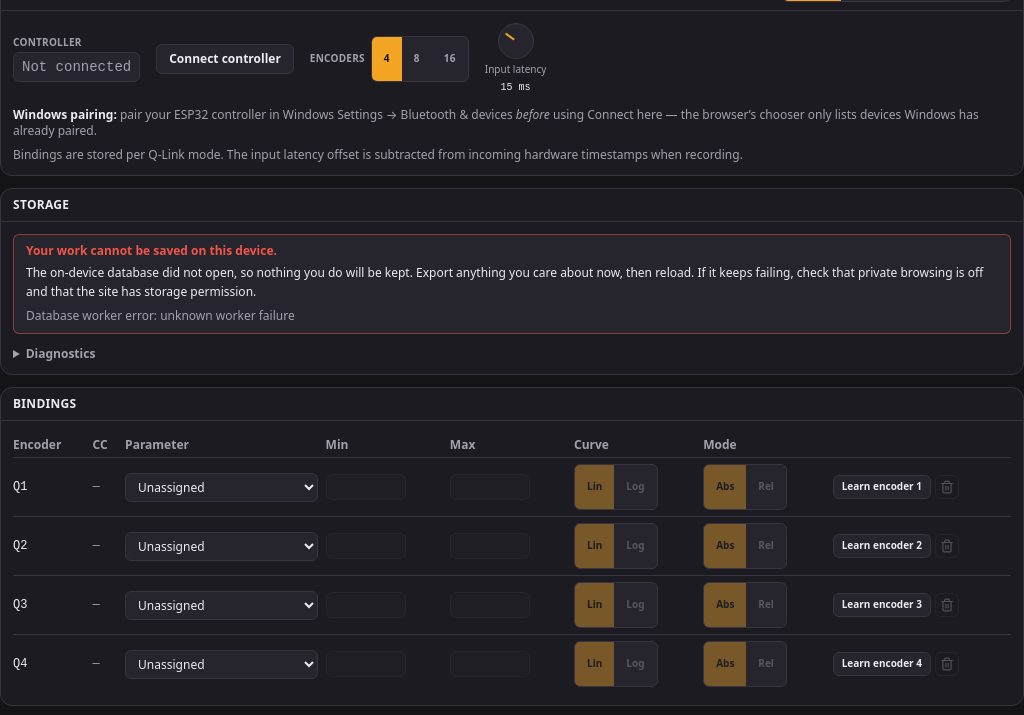
Test: QLinkEditMode (spec §8.5.11) › arms the learn flow for an encoder (spec §8.5.11)
Step 1. Click the button with test id "qlink-learn-0" → [882, 487], box [833,475,931,499]
(page scrolled)
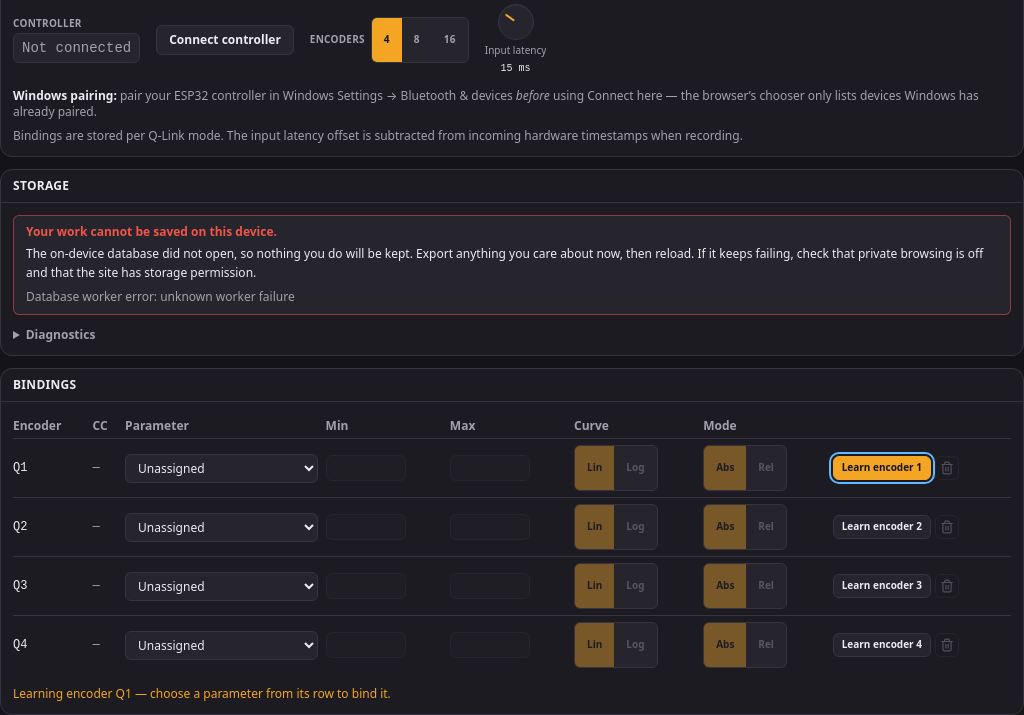
Check: the text "Learning encoder Q1" is shown, box [13,685,391,702]
